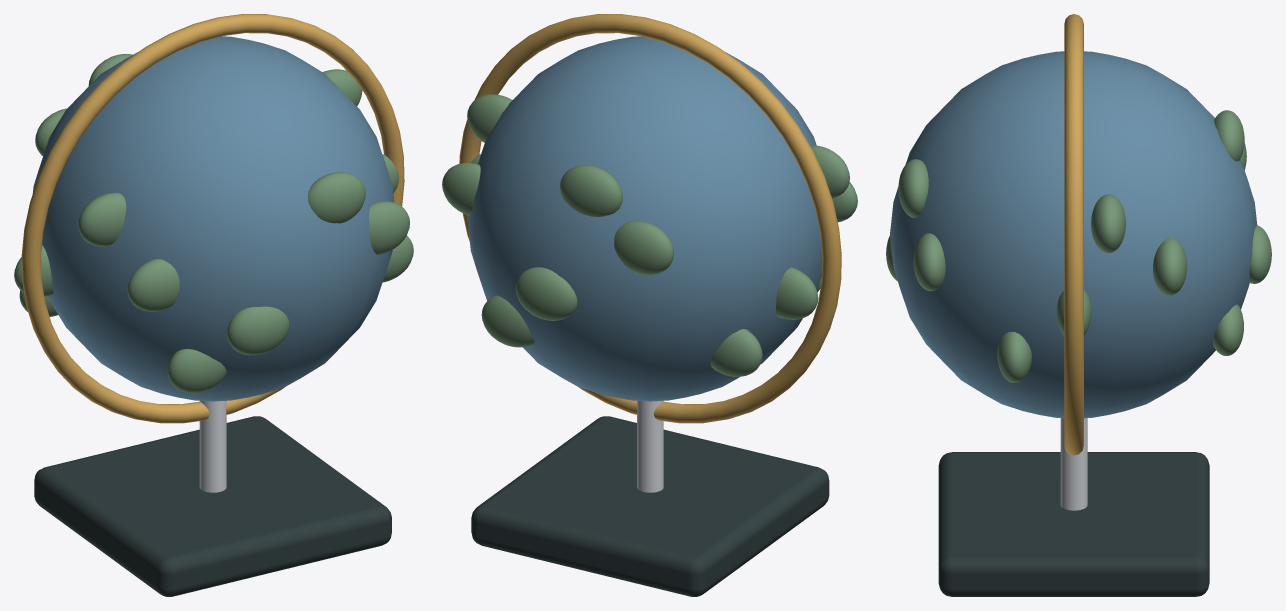
Rendered from globe.glb.
3 renders of one model, left to right at view 1: azimuth 30°, elevation 25°; view 2: azimuth 150°, elevation 25°; view 3: azimuth 270°, elevation 25°, orthographic.
Parts seen in each view (by area): view 1: globe; view 2: globe; view 3: globe.
Part boxes in pixels (left/top/right/bottom): globe: left=14, top=14, right=413, bottom=596; globe: left=442, top=14, right=857, bottom=596; globe: left=886, top=14, right=1271, bottom=596.
Bounding box in the file's own units: 0.8154 × 1.04 × 0.7123.
